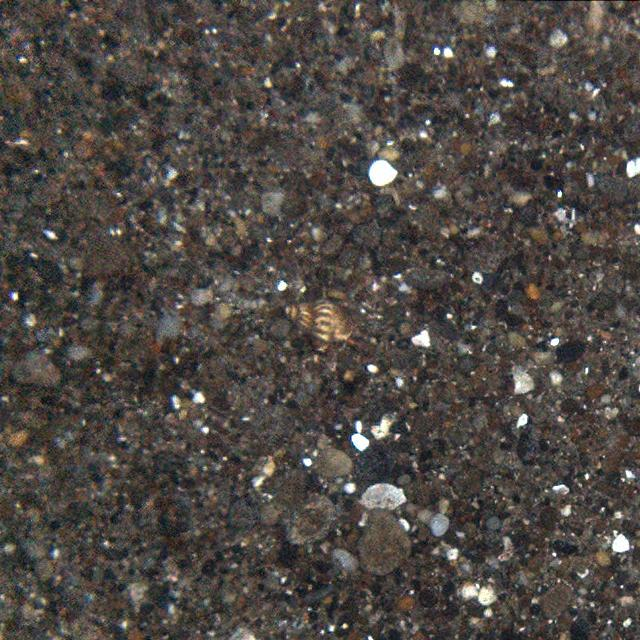whelk: (284, 295, 354, 346)
